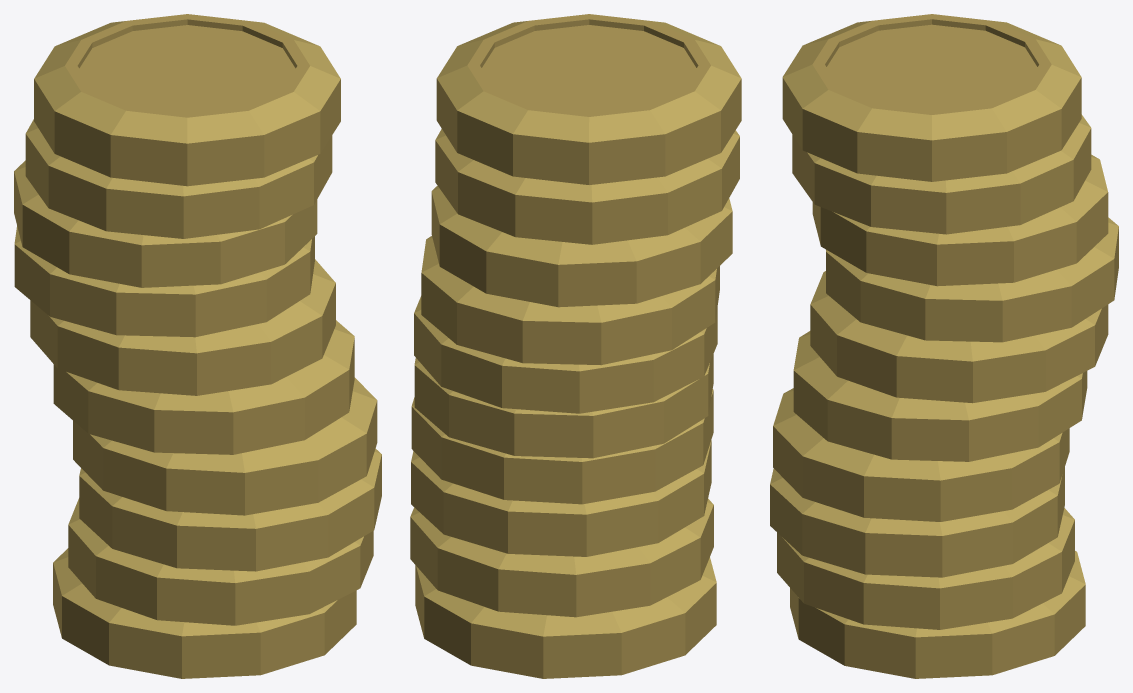
File: coins.glb
The picture shows the model from 3 angles, left to right: view 1: azimuth 30°, elevation 25°; view 2: azimuth 150°, elevation 25°; view 3: azimuth 270°, elevation 25°; orthographic projection. The views are drawn at different scales.
Visible parts, largest first — view 1: coins; view 2: coins; view 3: coins.
Part boxes in pixels (x1,y1,x2,y2): coins: [14, 14, 381, 678]; coins: [410, 14, 741, 678]; coins: [770, 14, 1118, 678].
Size of the model in its own units: 0.0689 by 0.12 by 0.07.
